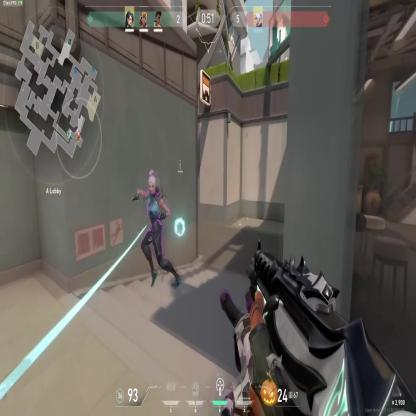enemy: (130, 171, 180, 290)
enemy_head: (147, 172, 156, 196)
